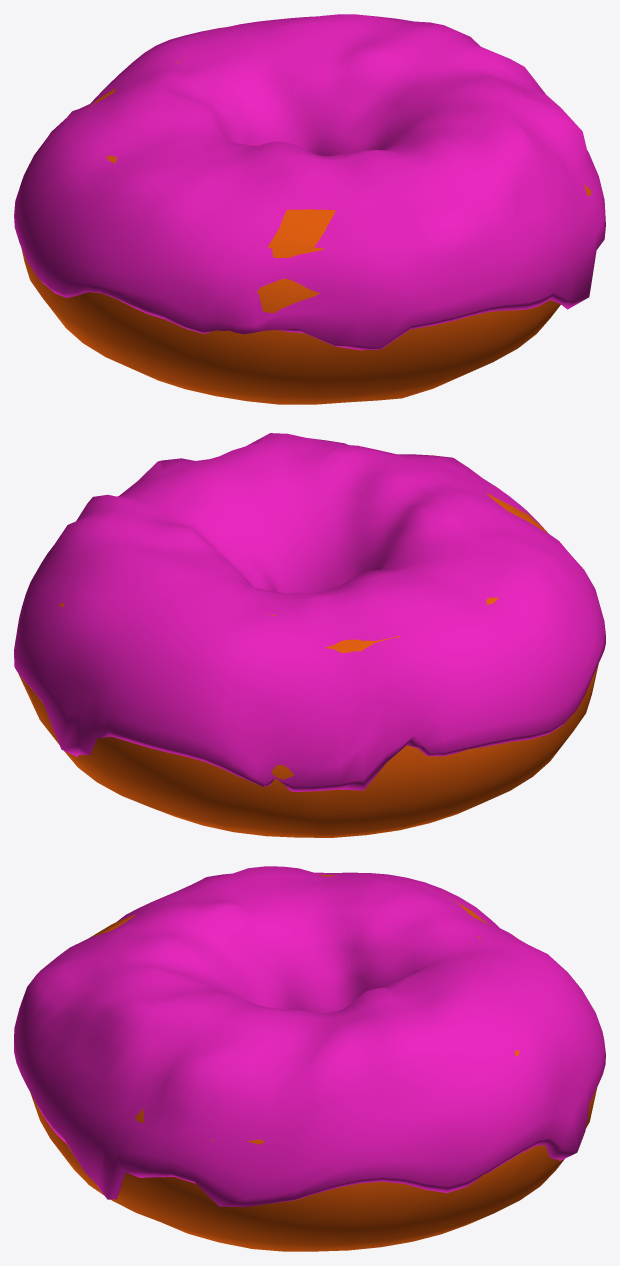
3 renders of one model, top to bottom at view 1: azimuth 30°, elevation 25°; view 2: azimuth 150°, elevation 25°; view 3: azimuth 270°, elevation 25°, orthographic.
Parts seen in each view (by area): view 1: Icing, Donut; view 2: Icing, Donut; view 3: Icing, Donut.
Boxes of the visible parts, x1,y1,x2,y2 form: Icing: [14, 14, 605, 350]; Donut: [21, 59, 591, 404]; Icing: [14, 433, 605, 791]; Donut: [18, 492, 598, 837]; Icing: [14, 866, 605, 1206]; Donut: [30, 874, 597, 1251].
Size of what is drawn, in the model's own units: 0.1029 by 0.0459 by 0.1038.
